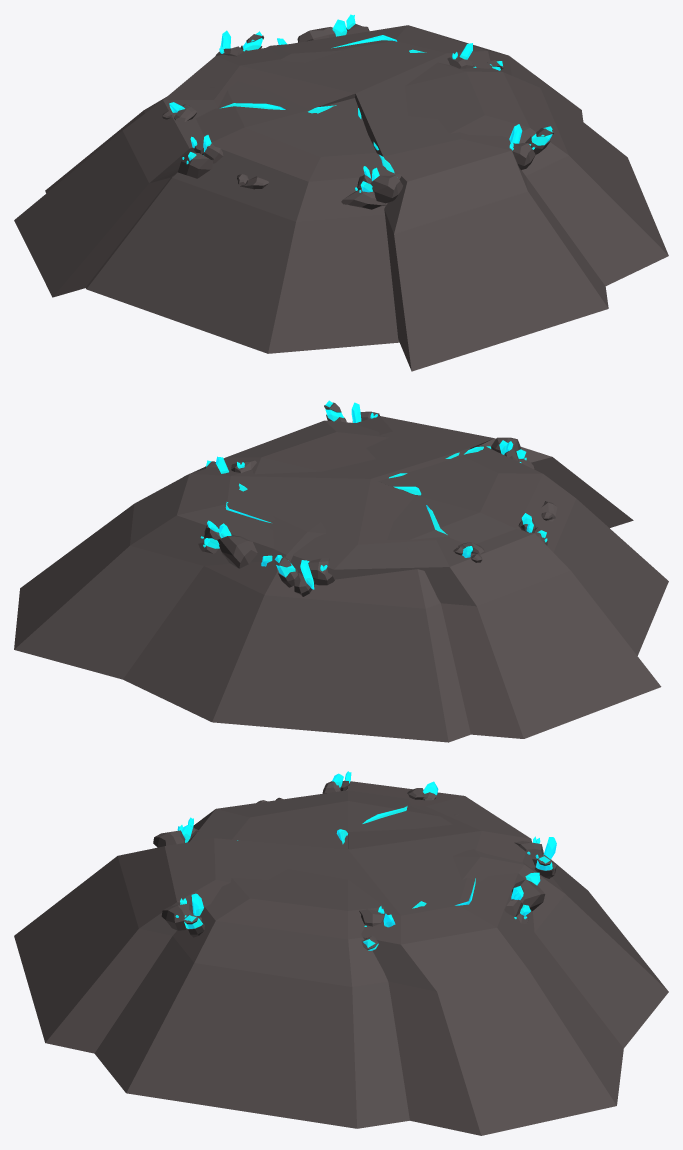
File: Mdl_OreZone.fbx
The picture shows the model from 3 angles, top to bottom: view 1: azimuth 30°, elevation 25°; view 2: azimuth 150°, elevation 25°; view 3: azimuth 270°, elevation 25°; orthographic projection. The views are drawn at different scales.
Parts seen in each view (by area): view 1: zona_tierra, zona_cristal; view 2: zona_tierra, zona_cristal; view 3: zona_tierra, zona_cristal.
Part boxes in pixels (bbox=[...]): zona_tierra: bbox=[14, 24, 668, 371]; zona_cristal: bbox=[169, 14, 552, 192]; zona_tierra: bbox=[14, 402, 668, 742]; zona_cristal: bbox=[200, 400, 547, 589]; zona_tierra: bbox=[14, 780, 668, 1135]; zona_cristal: bbox=[175, 771, 556, 950].
Bounding box in the file's own units: 16.33 × 3.84 × 15.17.
